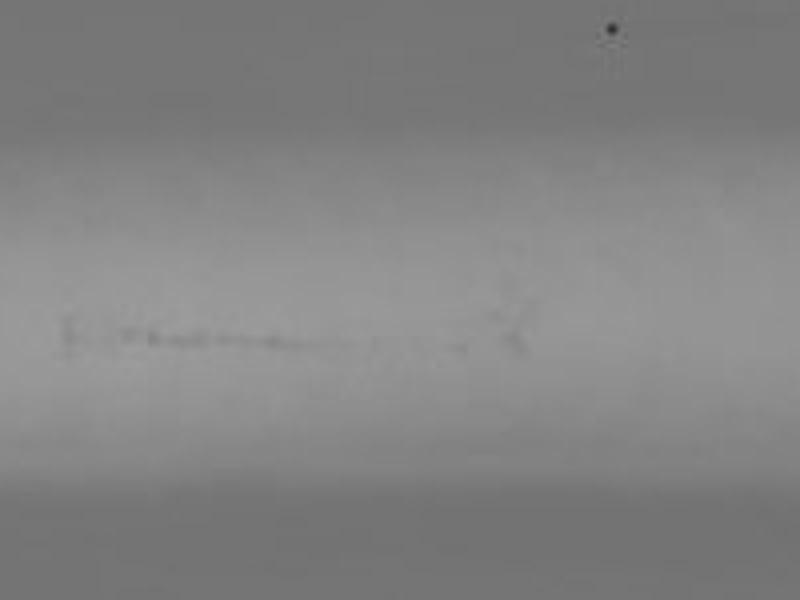defect: (168, 330, 206, 350), (61, 312, 75, 357), (218, 334, 252, 351), (112, 325, 136, 348), (505, 329, 526, 353), (484, 303, 503, 323), (260, 335, 280, 352), (604, 21, 620, 40), (147, 325, 160, 346)
